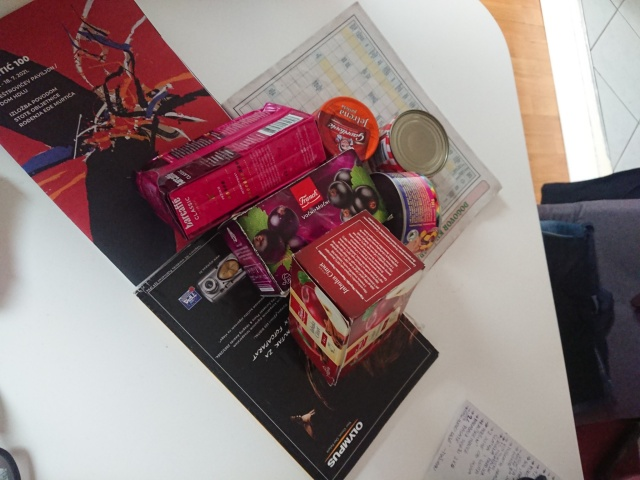Barcaffe Classic Original 225g: (131, 100, 329, 244)
Franck Apple Cinnamon Tea 60g: (283, 206, 428, 392)
Franck Black Currant Tea 60g: (214, 146, 398, 300)
Gavrilovic Pork Liver Pate 100g: (307, 94, 383, 173)
Giana Tuna Salad Mexico 185g: (359, 167, 443, 261)
Podravka Luncheon Meat 150g: (365, 108, 452, 185)
